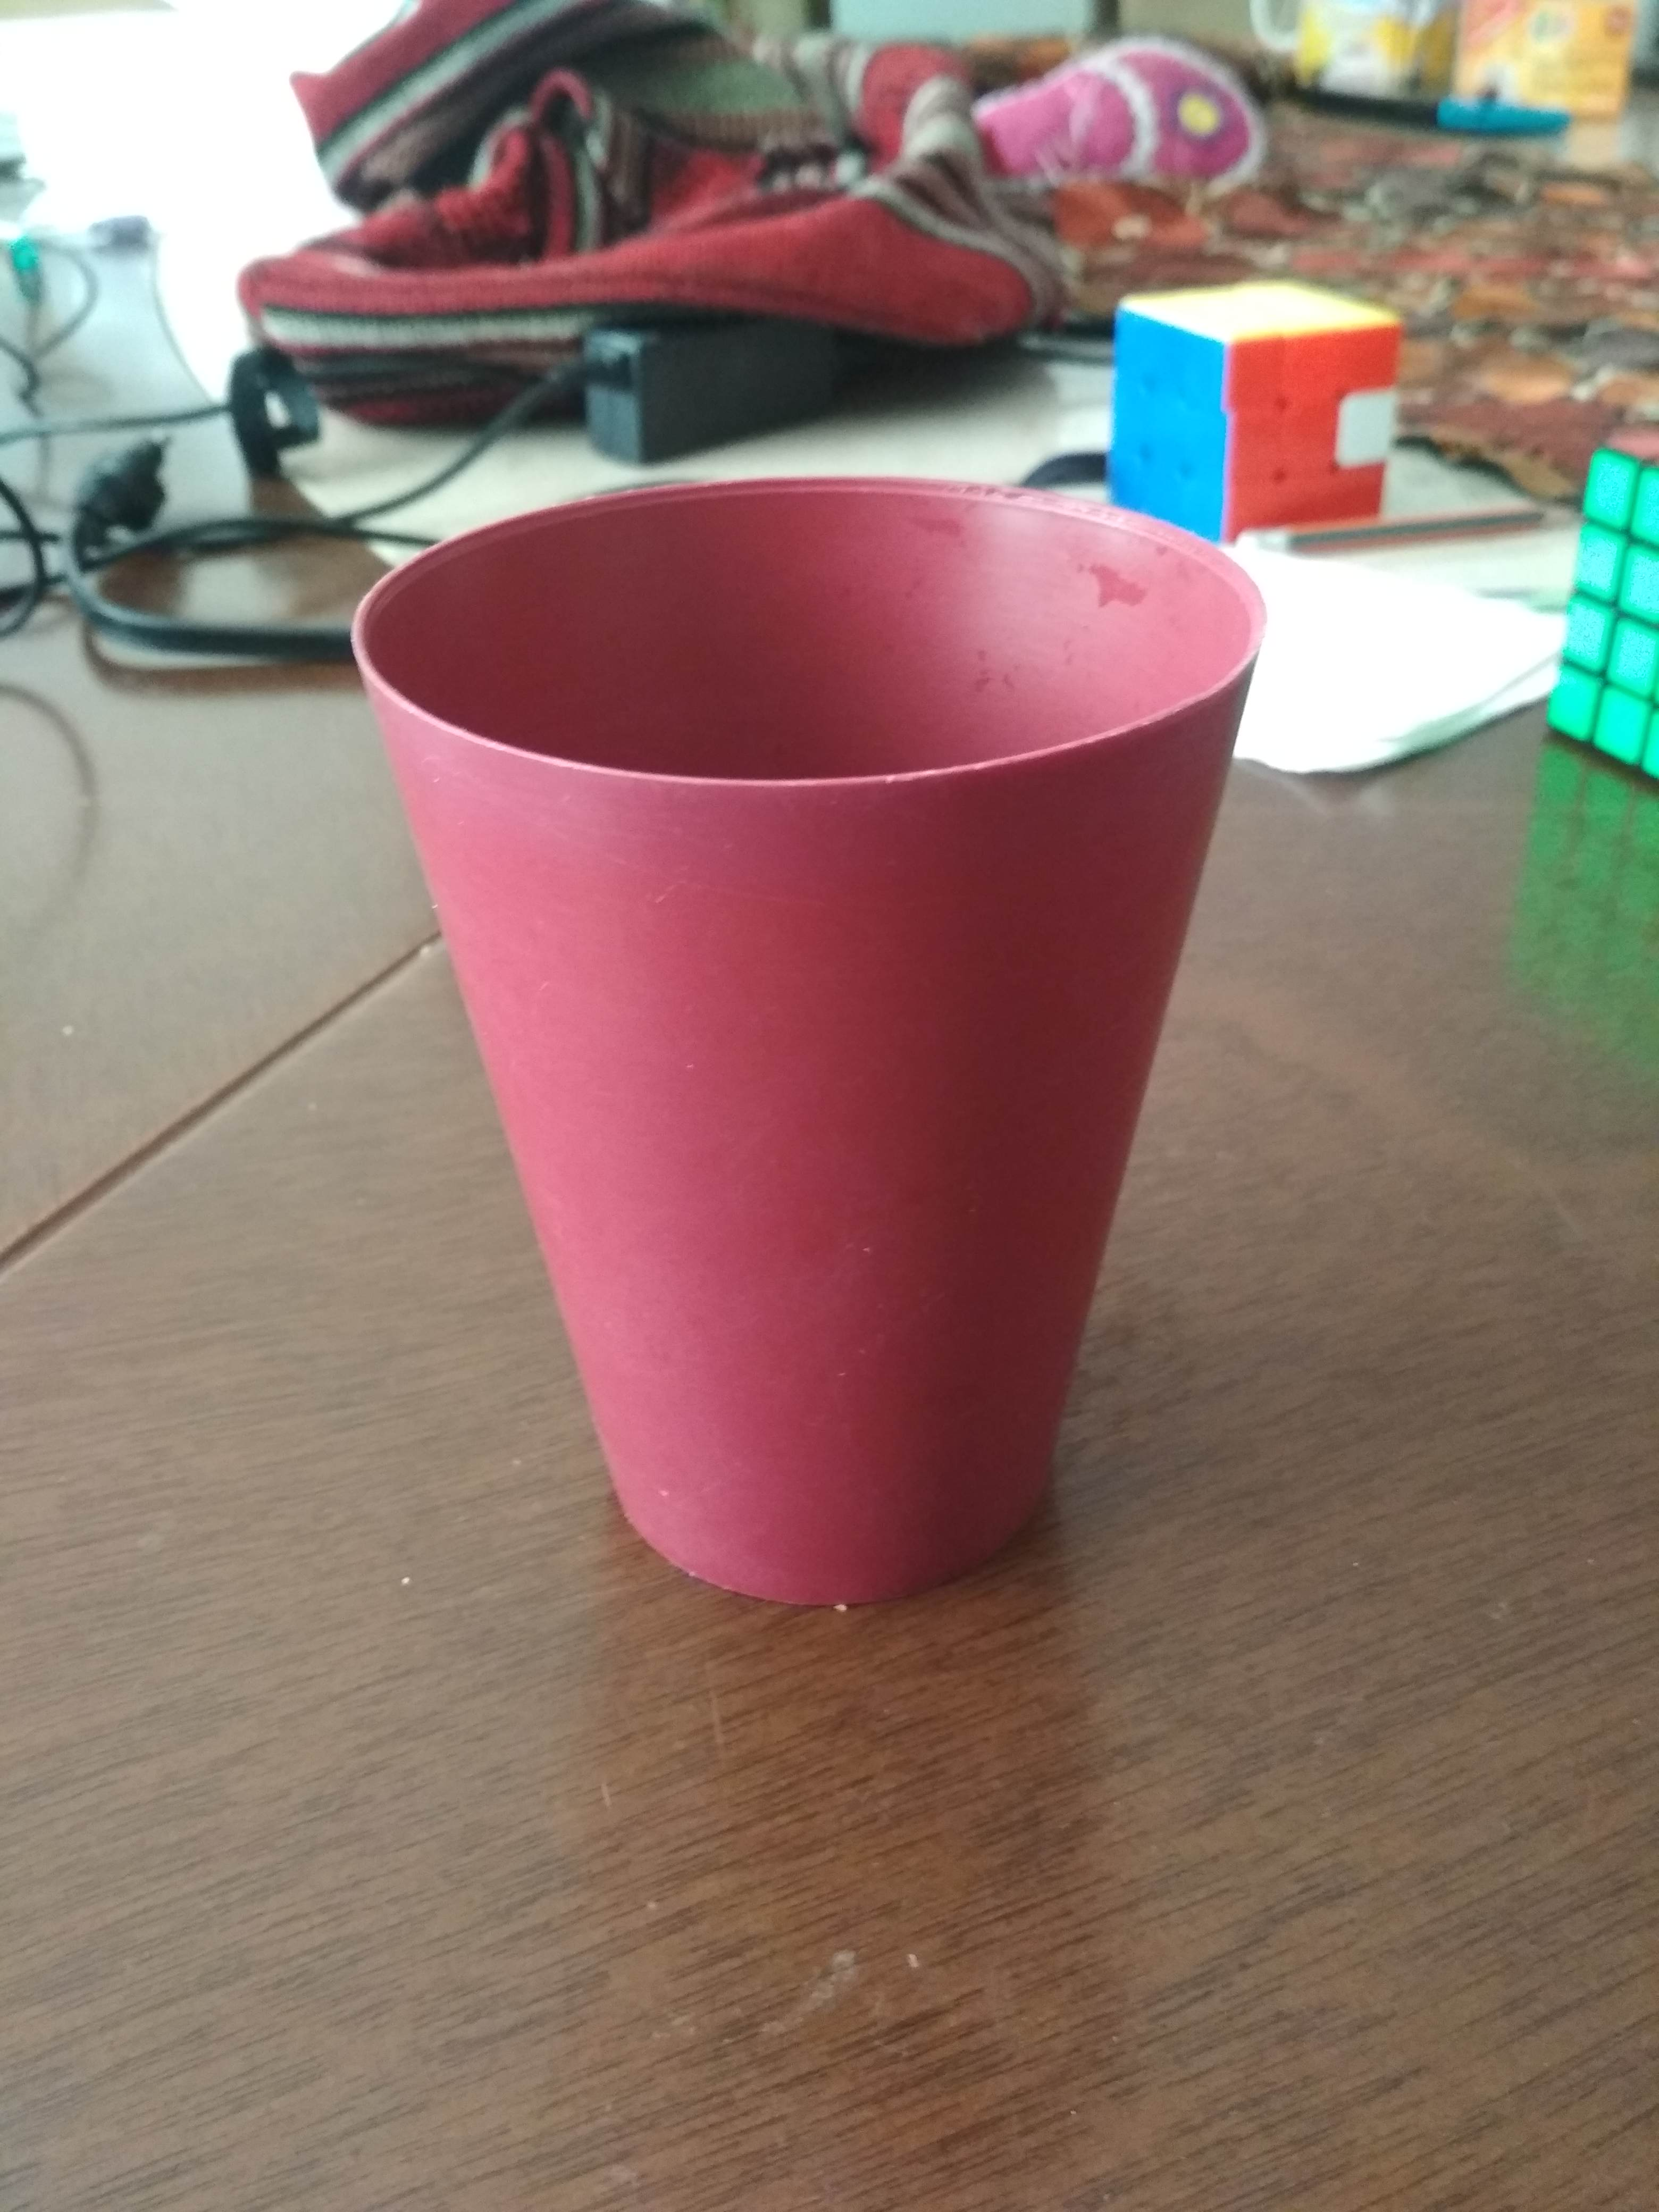glass: (336, 451, 1279, 1642)
rubik_cube: (1089, 272, 1413, 556), (1521, 415, 1659, 805)
